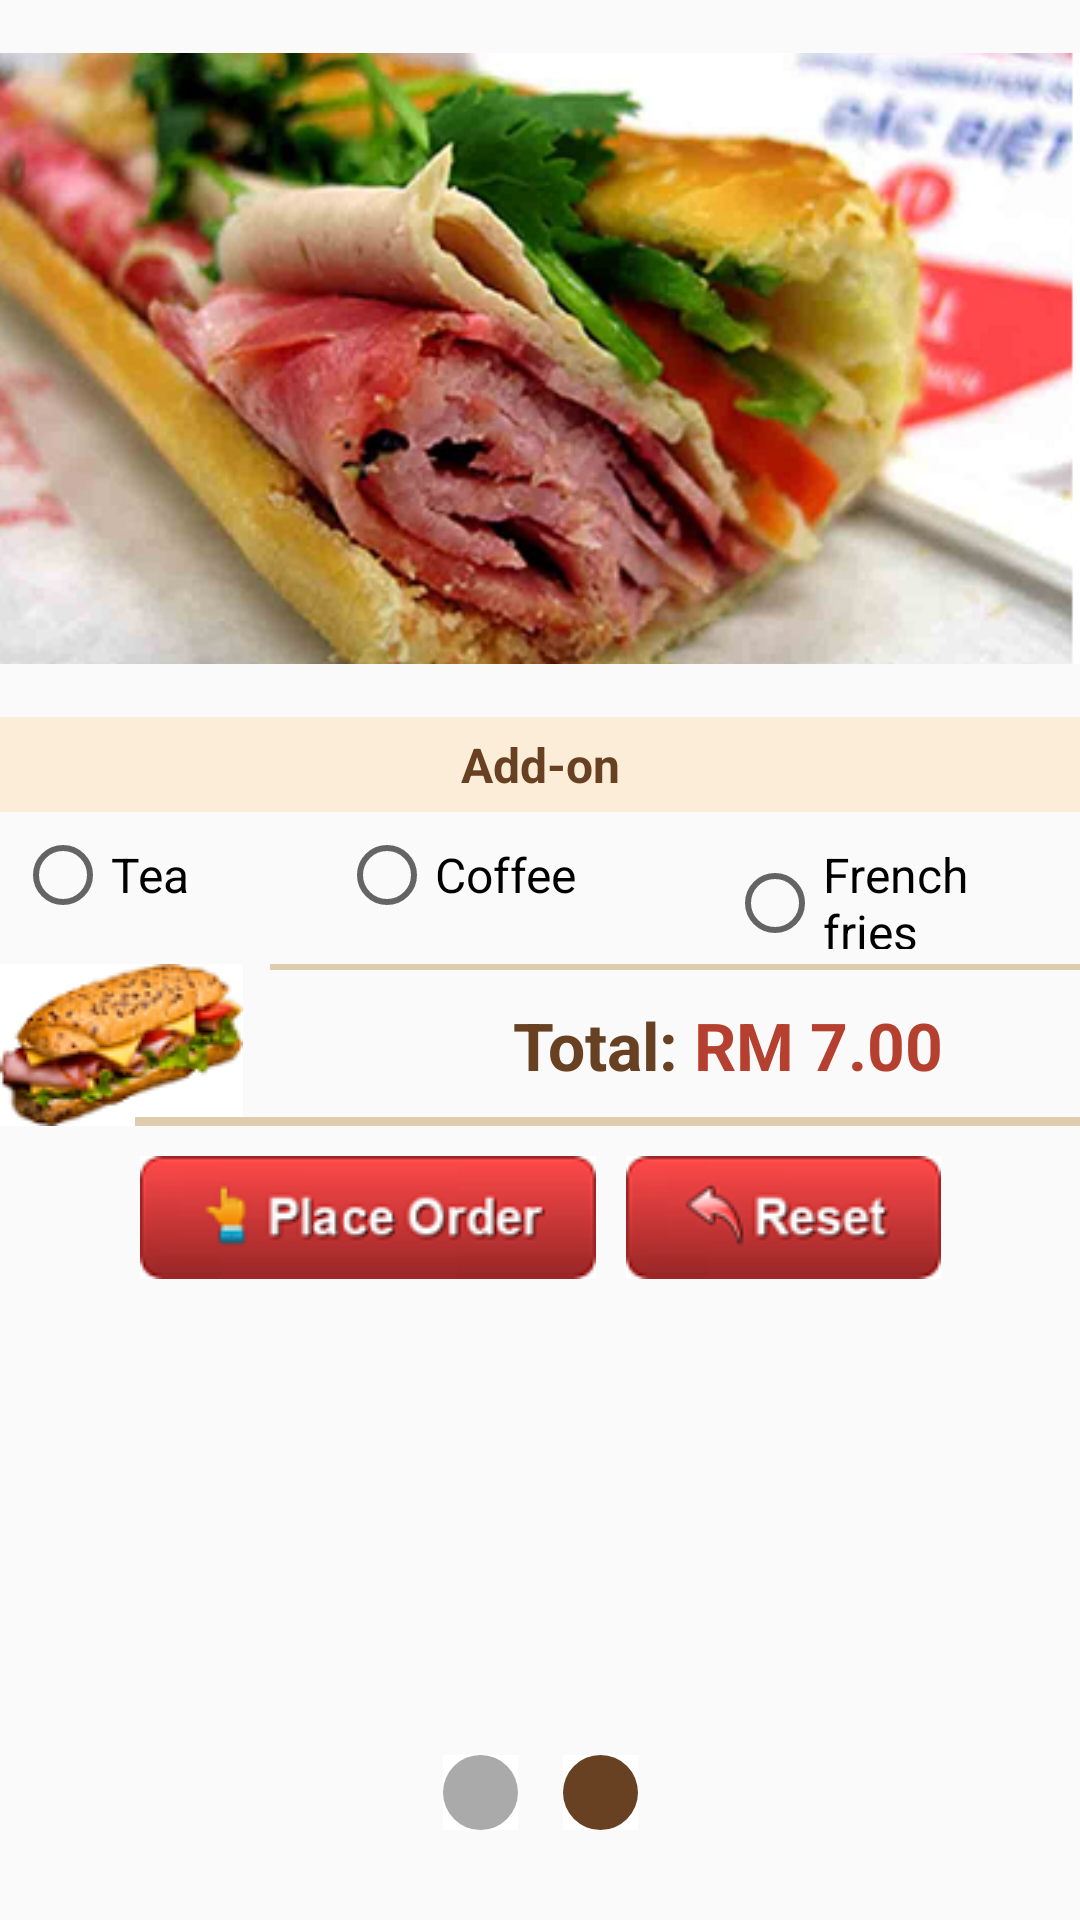

Icons on this 1080x1920 Android screen, each with the point to tap as (x=x, y=y):
Sandwich: (x=121, y=1045)
